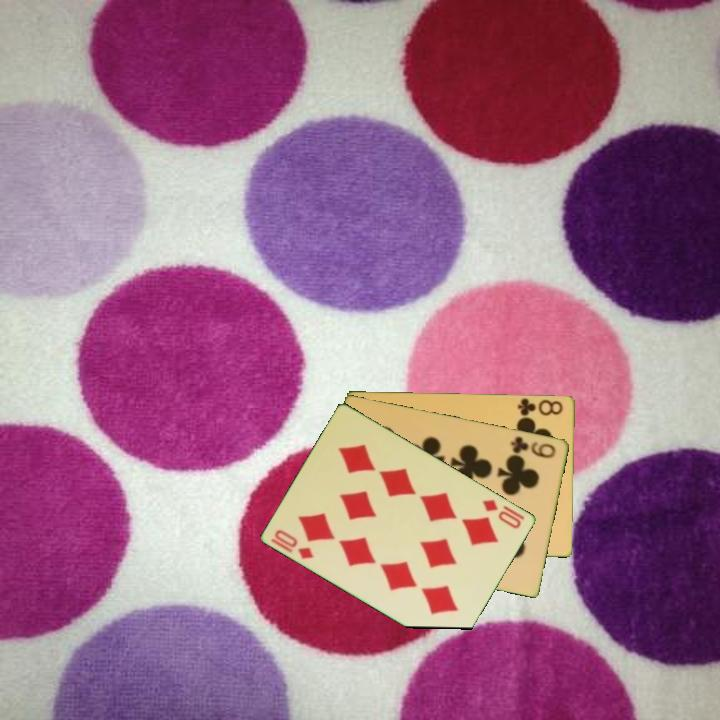10d: (479, 495, 524, 532), (271, 526, 317, 562)
8c: (515, 395, 566, 420)
9c: (508, 432, 559, 461)
